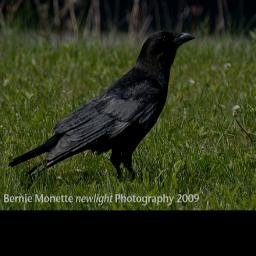Crow: (7, 29, 197, 185)
